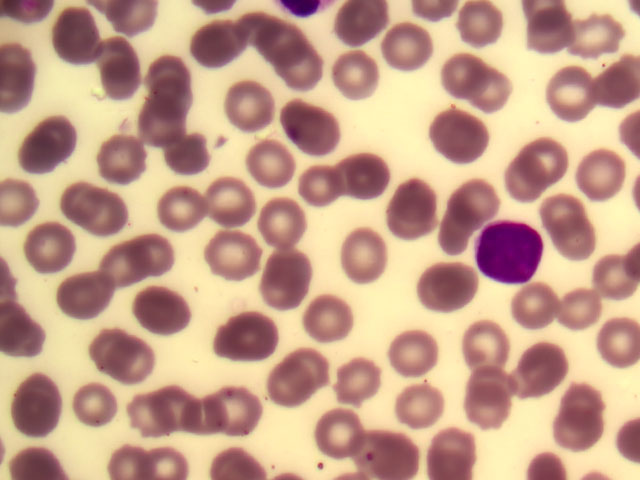RBC: (51, 9, 102, 60), (91, 34, 142, 85), (36, 107, 87, 158), (13, 131, 64, 182), (56, 175, 107, 226), (78, 185, 129, 236), (28, 221, 79, 272), (94, 137, 145, 188), (132, 102, 183, 153), (152, 70, 203, 121), (147, 55, 198, 106), (165, 124, 216, 175), (153, 180, 204, 231), (198, 172, 249, 223), (128, 229, 179, 280), (97, 243, 148, 294), (58, 269, 109, 320), (136, 285, 187, 336), (112, 337, 163, 388), (78, 324, 129, 375), (68, 384, 119, 435), (6, 386, 57, 437), (117, 390, 168, 441), (146, 378, 197, 429), (175, 393, 226, 444), (208, 385, 259, 436), (315, 409, 366, 460), (336, 360, 387, 411), (286, 340, 337, 391), (270, 361, 321, 412), (216, 311, 267, 362), (206, 237, 257, 288), (254, 200, 305, 251), (296, 167, 347, 218), (255, 140, 306, 191), (287, 100, 338, 151), (226, 81, 277, 132), (190, 22, 241, 73), (231, 4, 282, 55), (269, 19, 320, 70), (280, 45, 331, 96), (335, 48, 386, 99), (381, 24, 432, 75), (448, 53, 499, 104), (465, 61, 516, 112), (440, 107, 491, 158), (386, 179, 437, 230), (341, 147, 392, 198), (341, 234, 392, 285), (304, 289, 355, 340), (270, 250, 321, 301), (425, 258, 476, 309), (428, 212, 479, 263), (450, 171, 501, 222), (508, 156, 559, 207), (527, 130, 578, 181), (580, 149, 631, 200), (549, 71, 600, 122), (589, 55, 640, 106), (566, 14, 617, 65), (528, 8, 579, 59), (454, 1, 505, 52), (505, 282, 556, 333), (559, 286, 610, 337), (589, 250, 640, 301), (555, 214, 606, 265), (538, 185, 589, 236), (589, 318, 640, 369), (522, 343, 573, 394), (460, 320, 511, 371), (397, 327, 448, 378), (394, 380, 445, 431), (422, 423, 473, 474), (366, 429, 417, 480), (461, 385, 512, 436), (463, 355, 514, 406), (548, 405, 599, 456), (557, 379, 608, 430), (339, 1, 390, 51)
WBC: (476, 219, 544, 285)
